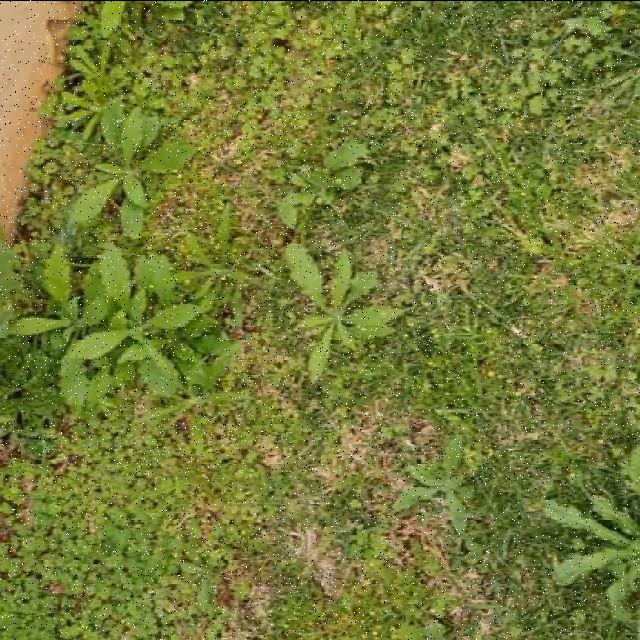weed: (6, 243, 204, 405), (286, 245, 407, 380), (69, 100, 195, 225), (546, 495, 640, 620), (398, 437, 472, 534), (311, 142, 367, 183)
